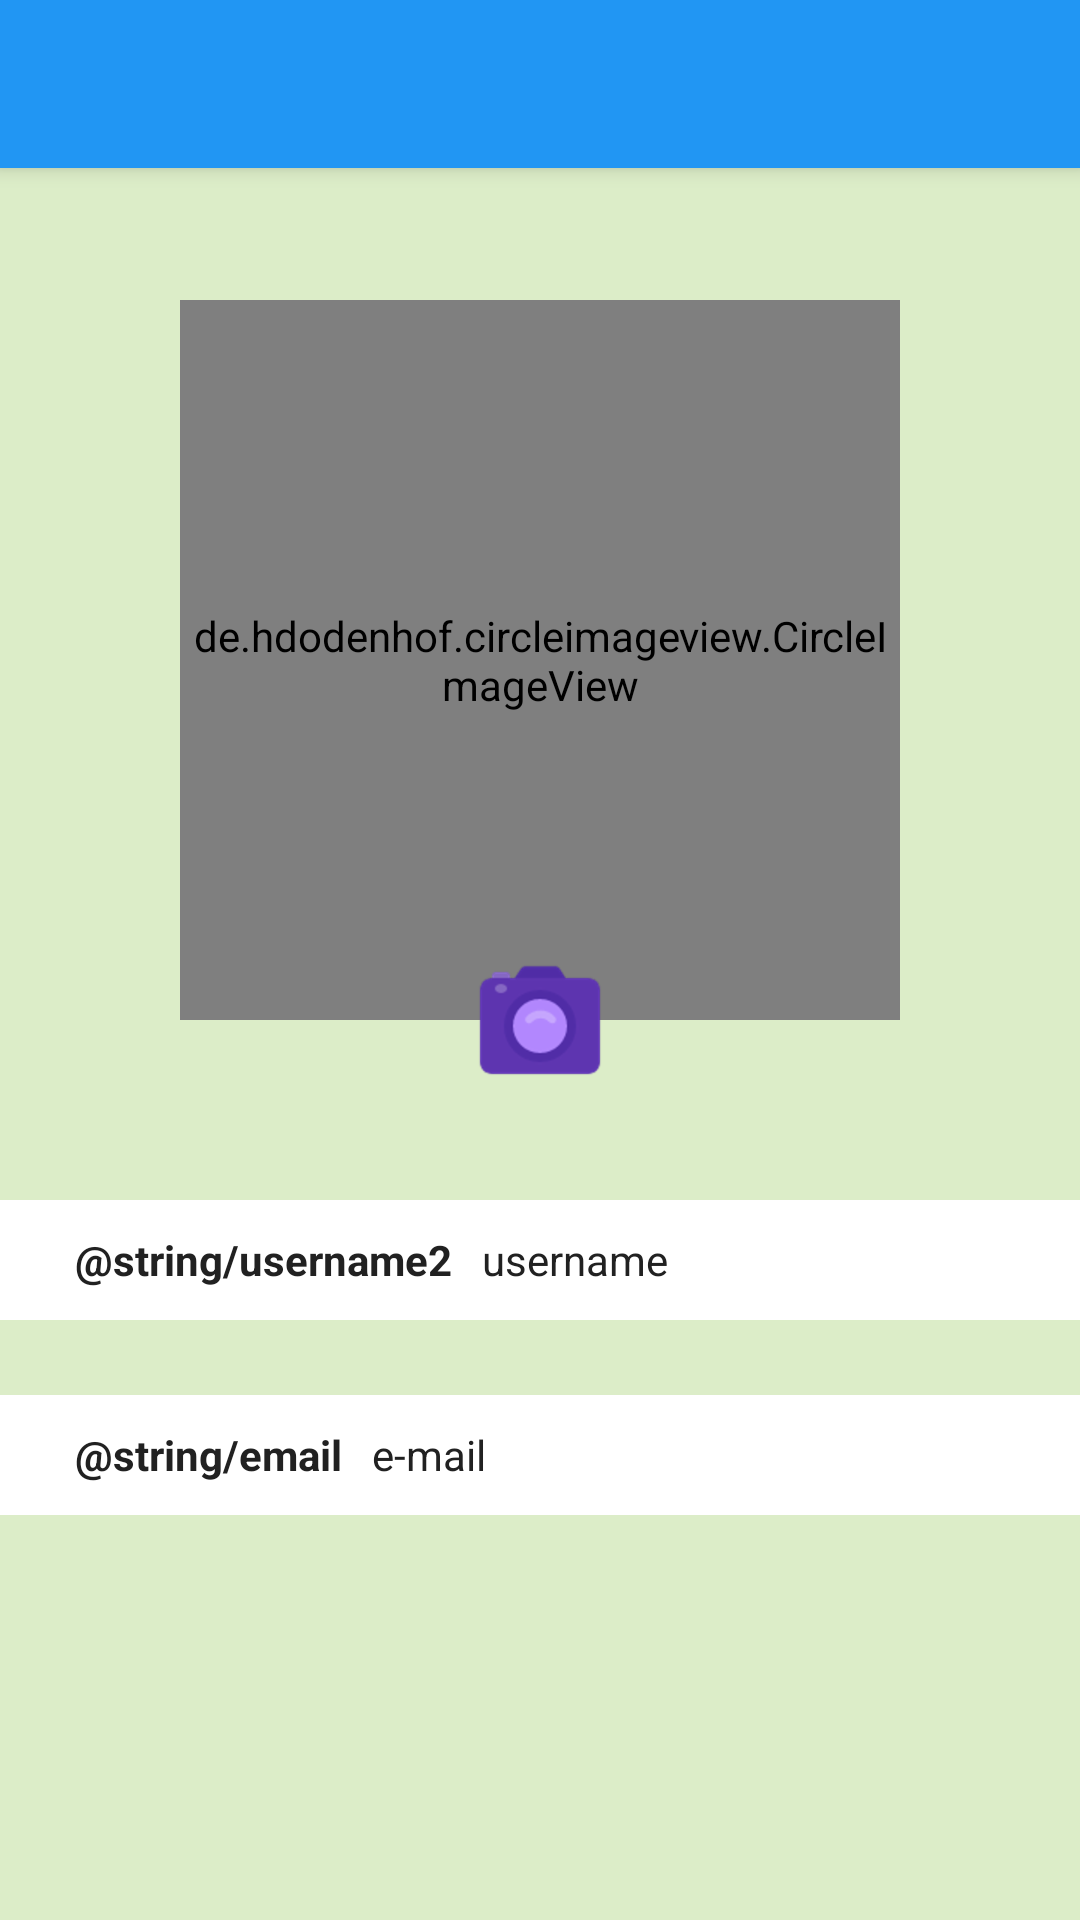

Where to tap for icons on this 1080×1920 app screen, as [x,y]:
camara: [540,1020]
